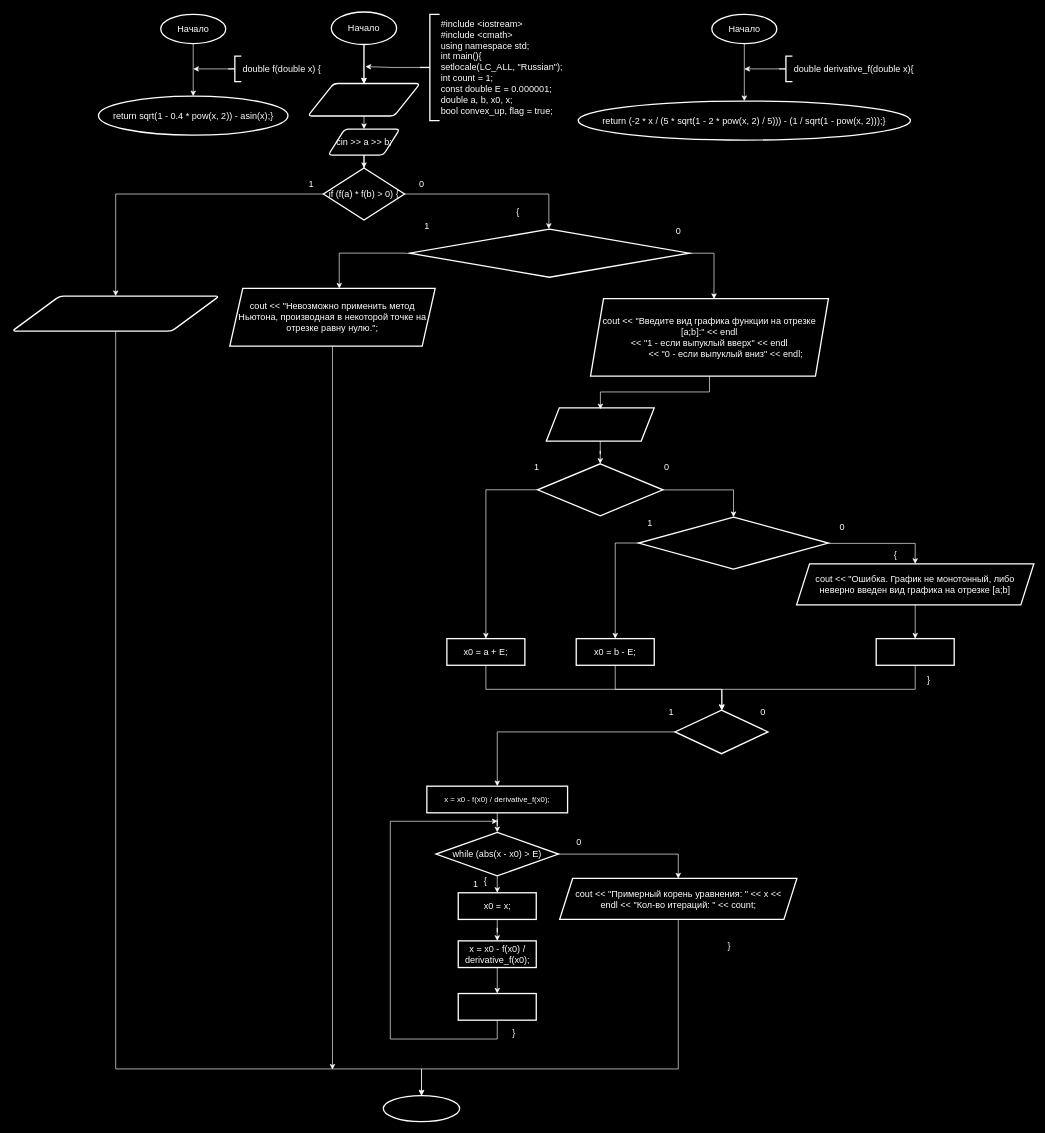
Image size: 1045x1133. Some labels were removed from this diagram. Each missing label, with the box of its shape:
cin >> convex_up;: (545, 407, 655, 441)
count++;: (457, 993, 537, 1020)
cout << "Введите интервал [a; b]: ";: (307, 83, 420, 116)
cout << "на интервале нет корня";}: (11, 295, 220, 332)
else if (convex_up && f(b) < 0): (638, 516, 829, 569)
else if (derivative_f(a) == 0 && derivative_f(b) == 0): (409, 228, 690, 278)
flag = false;: (875, 638, 955, 666)
if (convex_up && f(a) < 0): (537, 463, 663, 516)
if (flag): (674, 709, 768, 754)
return 0; }: (382, 1095, 460, 1122)
